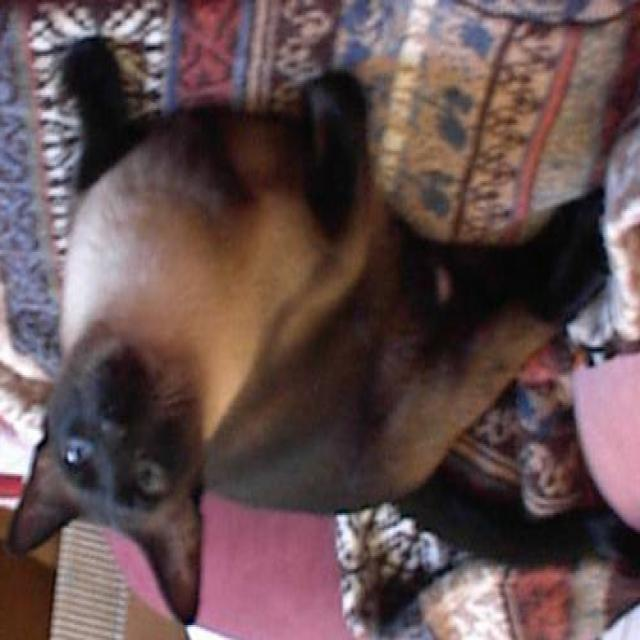Kucing: (6, 104, 545, 576)
